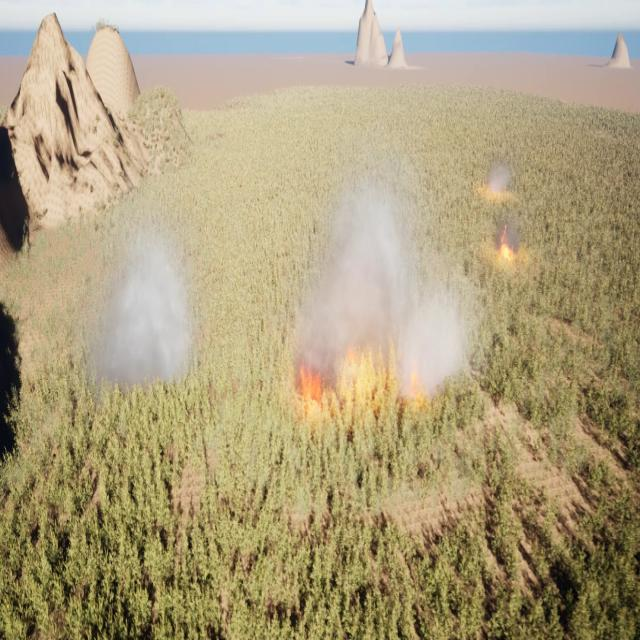fire: (347, 340, 394, 400), (300, 354, 338, 412), (408, 363, 426, 399), (500, 224, 515, 263)
smoke: (286, 146, 484, 403), (86, 184, 199, 388), (492, 217, 522, 253), (483, 164, 509, 194)
